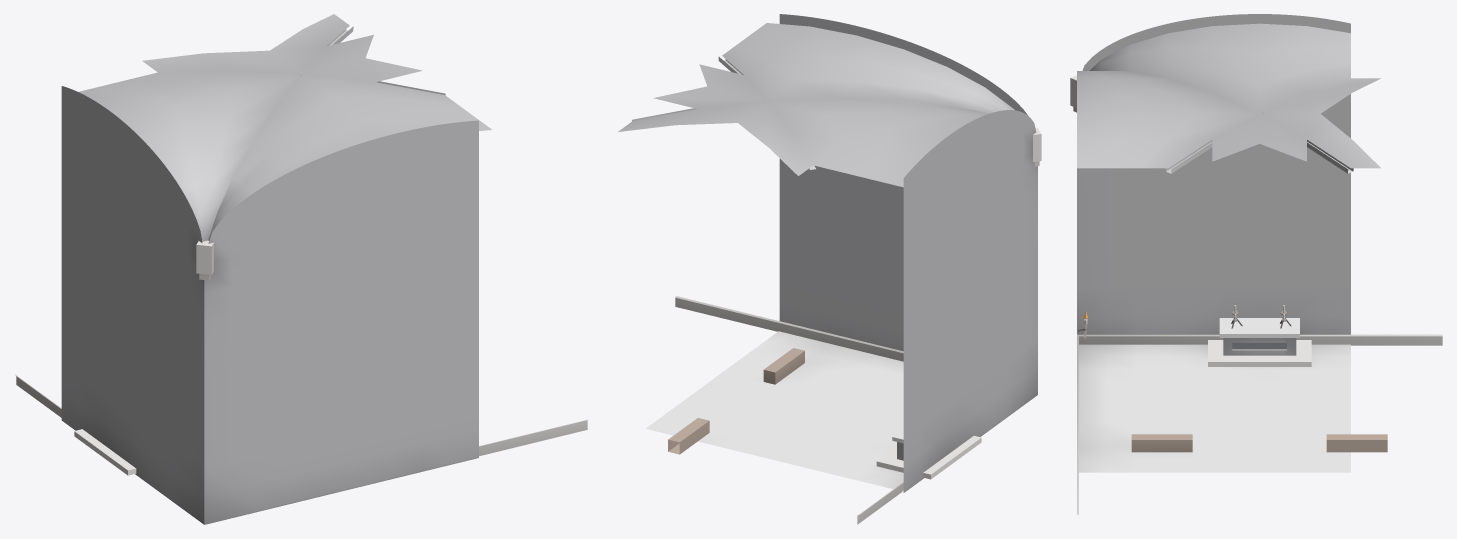
The model's file is crypt_08_ad.glb.
The picture shows the model from 3 angles, left to right: view 1: azimuth 30°, elevation 25°; view 2: azimuth 150°, elevation 25°; view 3: azimuth 270°, elevation 25°; orthographic projection. The views are drawn at different scales.
Visible parts, largest first — view 1: crypt_08_ad; view 2: crypt_08_ad; view 3: crypt_08_ad.
Part boxes in pixels (<box>): crypt_08_ad: <box>14,14,588,524</box>; crypt_08_ad: <box>618,14,1041,524</box>; crypt_08_ad: <box>1070,14,1442,514</box>.
Size of the model in its own units: 14.3 by 12 by 12.21.
